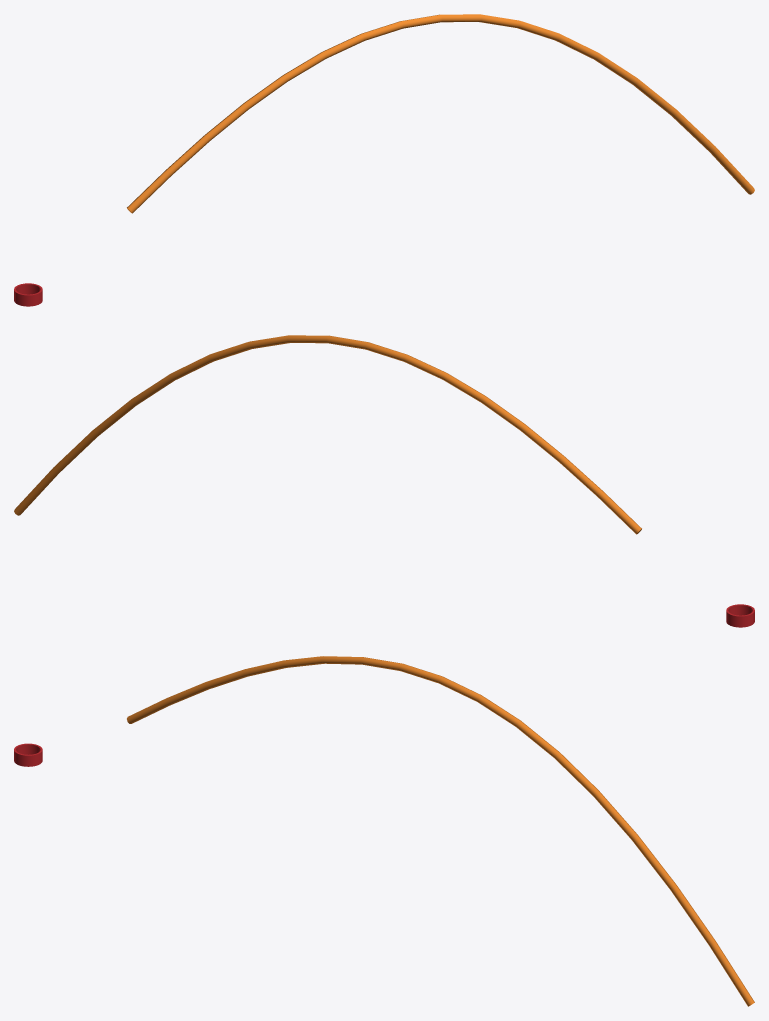
Rendered from firewater_monitor_pressure.glb.
The picture shows the model from 3 angles, top to bottom: view 1: azimuth 30°, elevation 25°; view 2: azimuth 150°, elevation 25°; view 3: azimuth 330°, elevation 25°; orthographic projection.
Visible parts, largest first — view 1: pressure__front, pressure__back; view 2: pressure__back, pressure__front; view 3: pressure__front, pressure__back.
Part boxes in pixels (box(x1,y1,x2,y2)): pressure__front: box(16, 14, 754, 306); pressure__back: box(14, 14, 439, 302); pressure__back: box(14, 335, 752, 627); pressure__front: box(329, 335, 754, 623); pressure__front: box(14, 656, 753, 1006); pressure__back: box(16, 657, 754, 1002).
Size of the model in its own units: 4.16 by 1.39 by 0.14.
